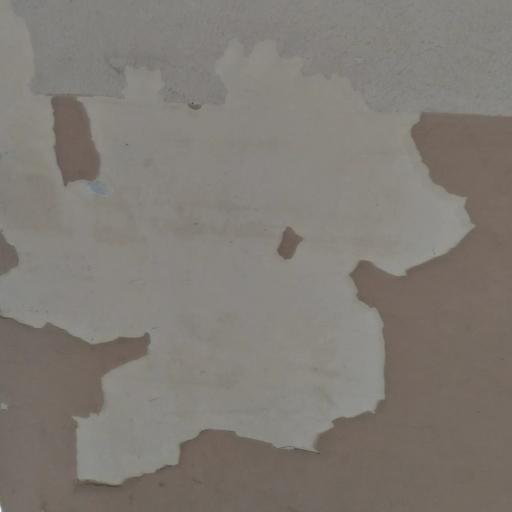peeling: (0, 0, 511, 497)
